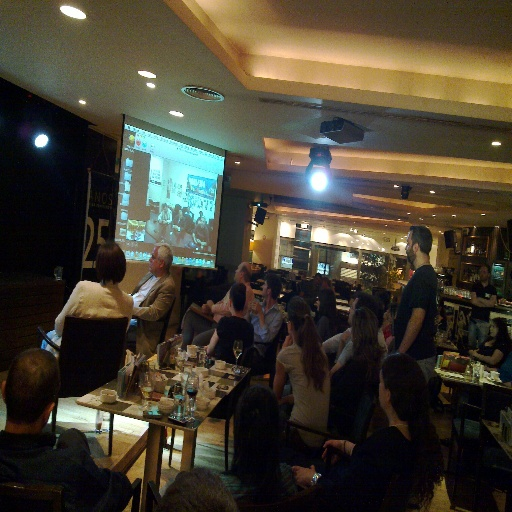hand: (319, 437, 344, 469), (291, 465, 317, 488), (280, 334, 293, 348), (252, 300, 262, 316), (340, 331, 350, 345), (246, 298, 256, 311), (201, 302, 210, 314), (206, 300, 213, 308), (469, 350, 476, 358)
